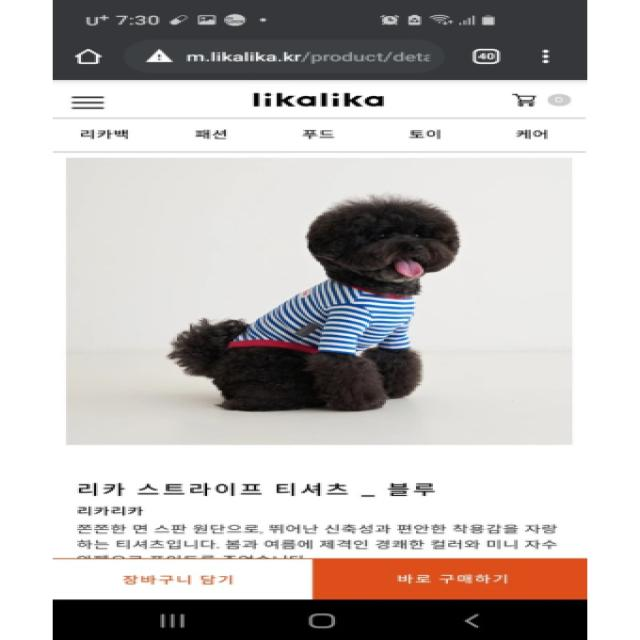cloth: (228, 280, 412, 355)
